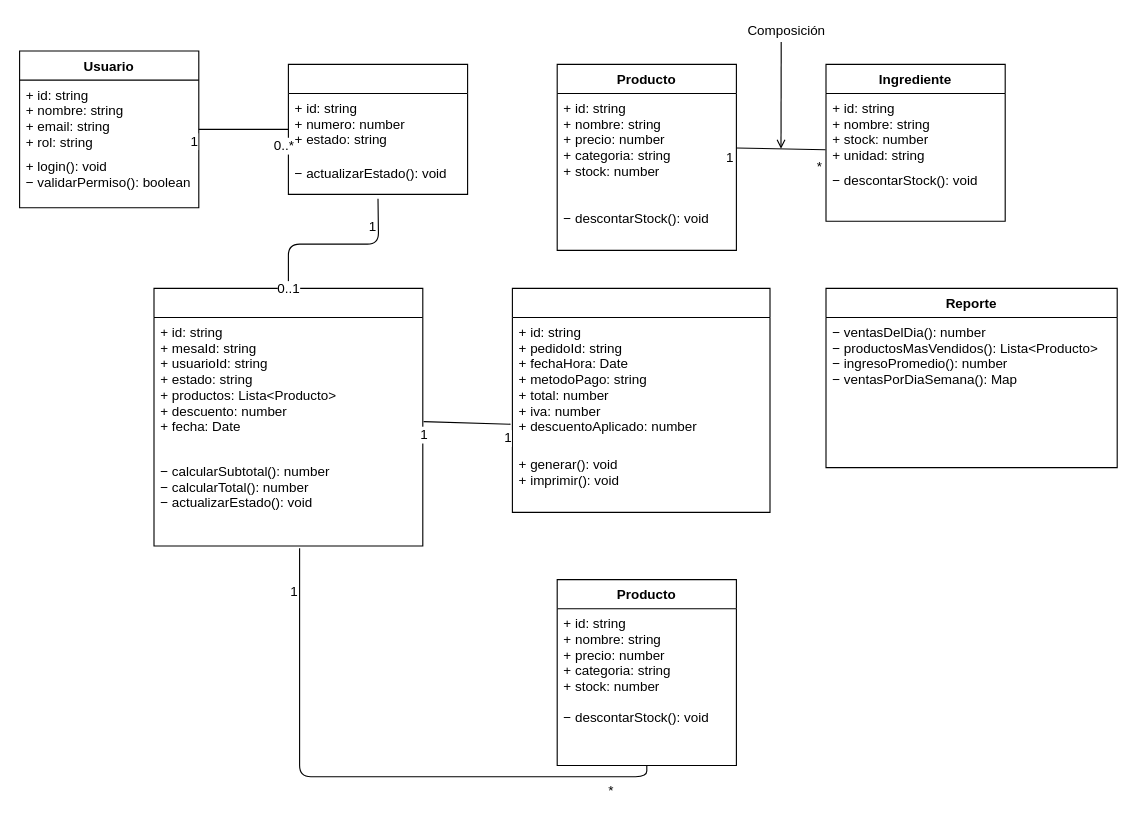
Image size: 1137x818. Some labels were removed from this diagram. Here are the shapes that lost their labels. From the top down, the box of each, then its label:
(287, 63, 468, 194): Mesa
(153, 287, 423, 546): Pedido
(511, 287, 770, 512): Boleta
